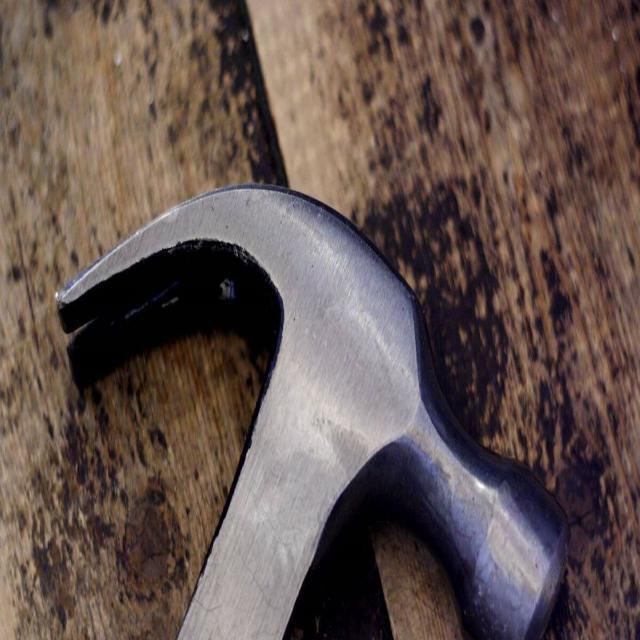hammer: (47, 175, 580, 640)
